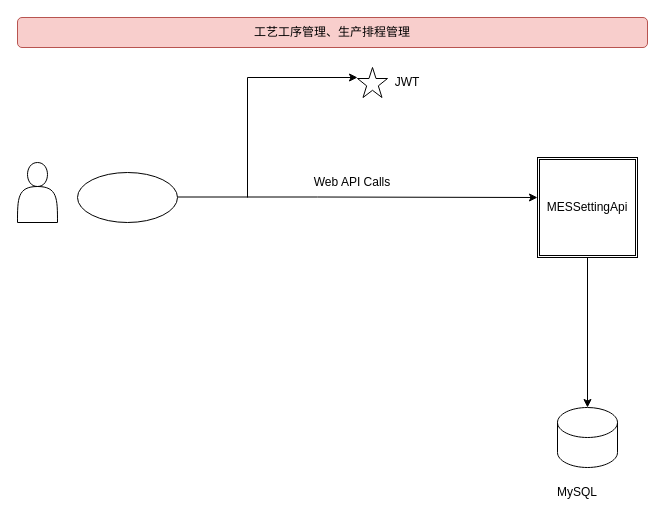
Some shapes in this 665 by 525 pixel diagram are drawn without their labels. The centre of each missing label's shape, as x and y in pixels:
System Database: (587,437)
前端: (127,197)
